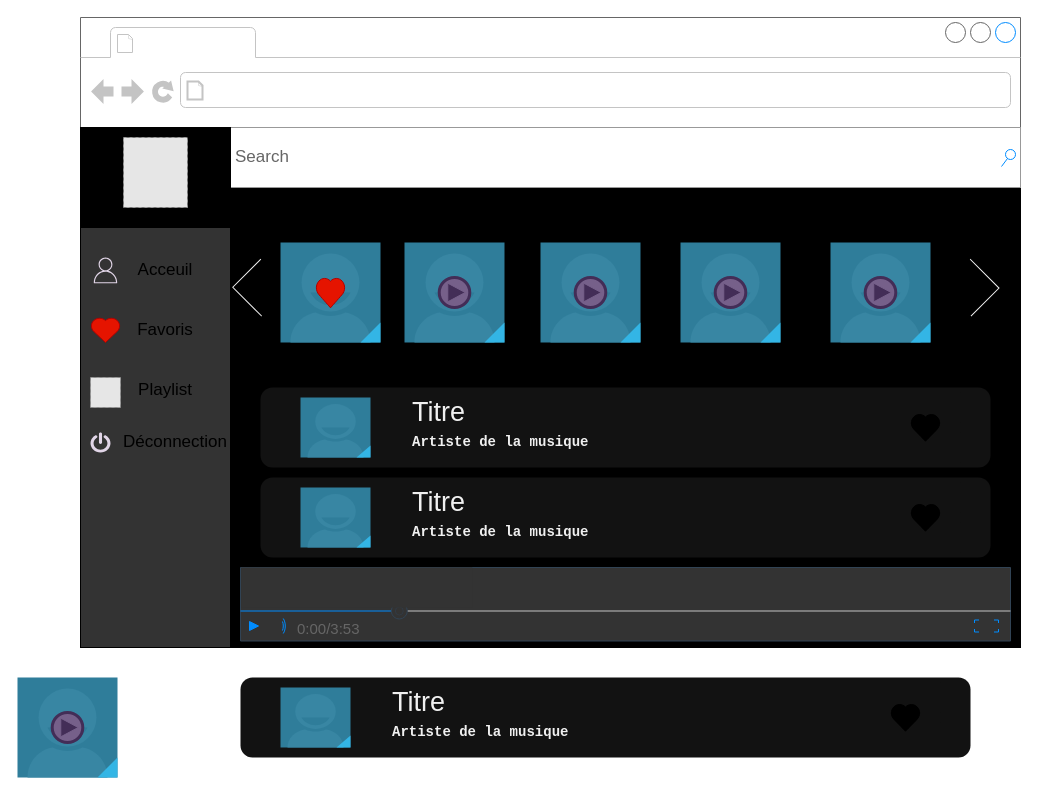
This 1038x795 diagram has some shape labels left out. Grey dashed boxes stand in for pictures. Each missing label, with the box of its shape:
https://www.dwarf.com: (210, 76, 460, 104)
Le titre da la chanson: (241, 567, 472, 607)
Page 1: (140, 28, 250, 56)
